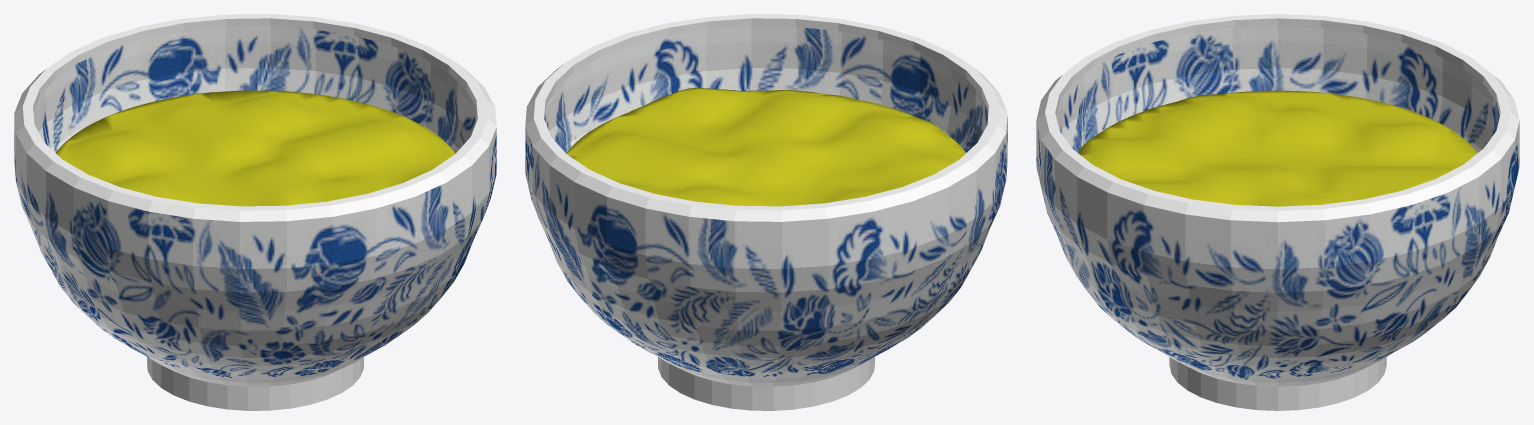
The model's file is Schaaltje-boter.obj.
3 views of the same model, side by side, from view 1: azimuth 30°, elevation 25°; view 2: azimuth 150°, elevation 25°; view 3: azimuth 270°, elevation 25° (orthographic).
Visible parts, largest first — view 1: Cylinder_Material.001, vulling_Material.002; view 2: Cylinder_Material.001, vulling_Material.002; view 3: Cylinder_Material.001, vulling_Material.002.
Part boxes in pixels (x1,y1,x2,y2): Cylinder_Material.001: (14, 14, 496, 410); vulling_Material.002: (56, 90, 455, 206); Cylinder_Material.001: (525, 14, 1007, 410); vulling_Material.002: (566, 87, 965, 206); Cylinder_Material.001: (1036, 14, 1519, 410); vulling_Material.002: (1078, 90, 1477, 206).
Bounding box in the file's own units: 21.6 × 12.46 × 21.6.
